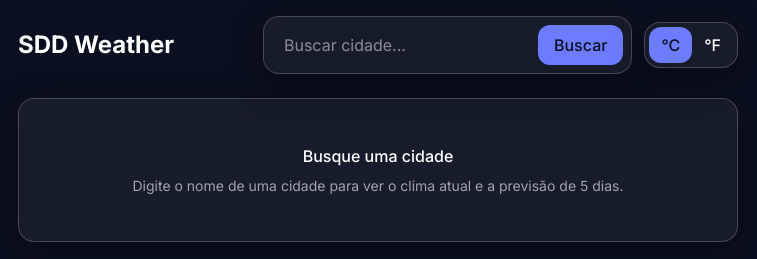
App › move o foco para o conteúdo após concluir a busca
The width and height of the screenshot is (757, 259).
Type "Rio de Janeiro" into the field labelled "Buscar cidade" at (401, 45), box left=272, top=25, right=530, bottom=65
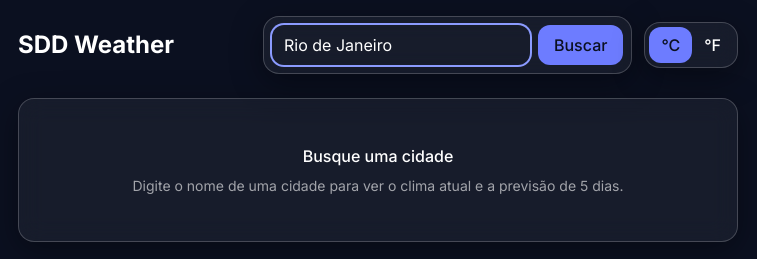
Click the button "Buscar" at (581, 45), box left=538, top=25, right=623, bottom=65
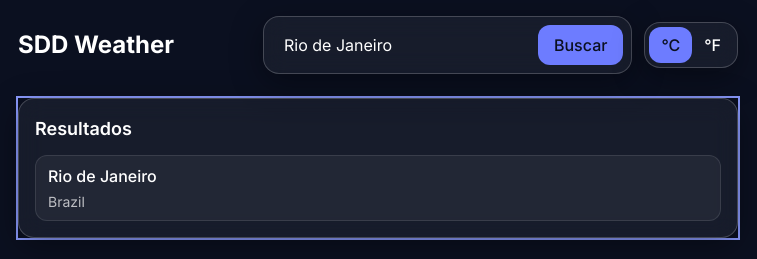
Now the text "Rio de Janeiro" is shown, box left=48, top=164, right=157, bottom=188
